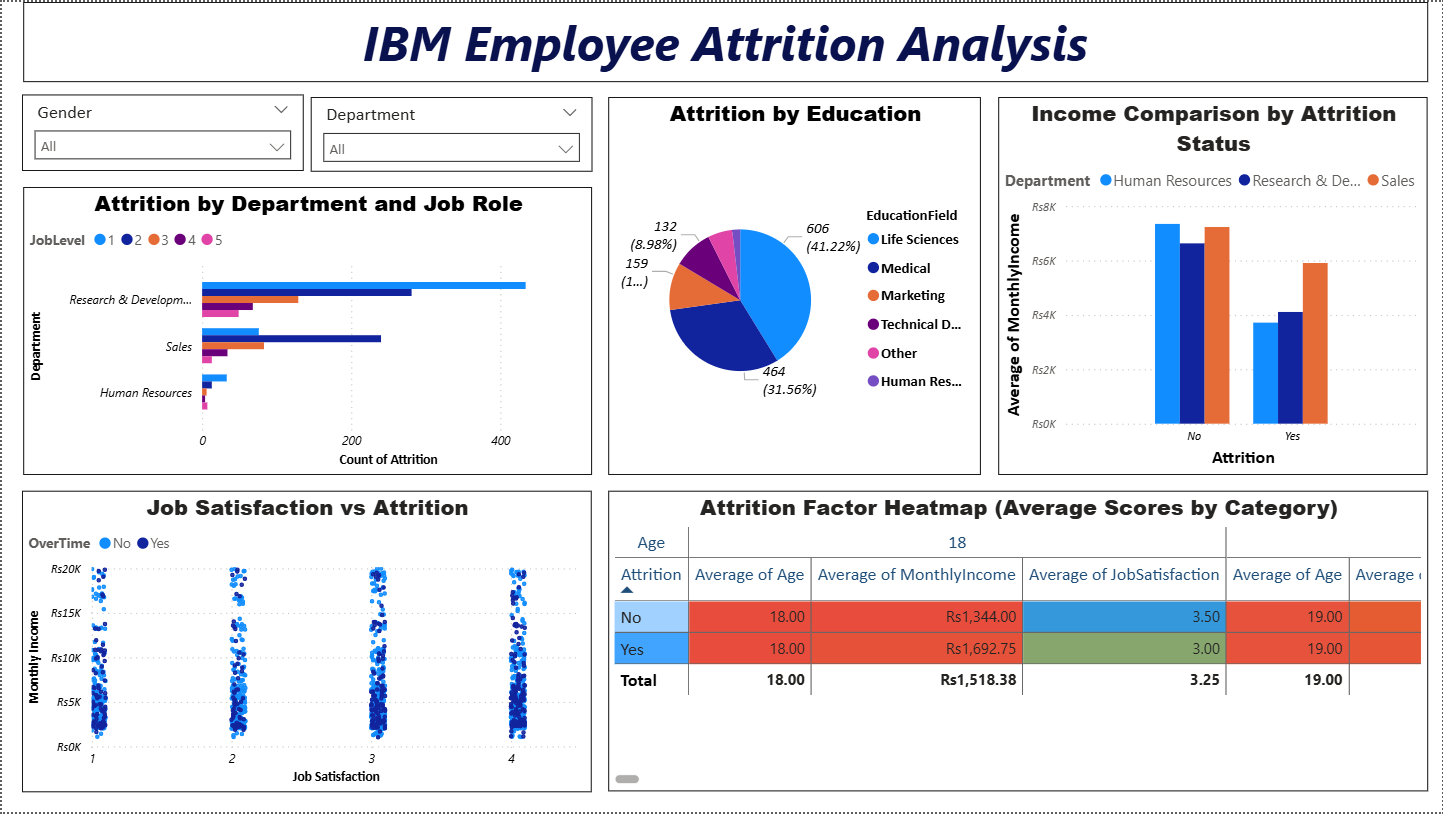

The dashboard page shown, as its layout file describes it:
{"tool":"powerbi","page":{"name":"IBM HR Attrition Deep Dive","canvas":[1280,720],"ordinal":1},"visuals":[{"type":"textbox","box":[18.6,0,1248.6,71.4],"z":0},{"type":"clusteredBarChart","title":"Attrition by Department and Job Role","fields":{"Y":["CountNonNull(IBM_HR.Attrition)"],"Category":["IBM_HR.Department"],"Series":["IBM_HR.JobLevel"]},"box":[18.6,164.3,505.7,255.7],"z":1000},{"type":"pieChart","title":"Attrition by Education","fields":{"Category":["IBM_HR.EducationField"],"Y":["CountNonNull(IBM_HR.Attrition)"]},"box":[538.6,84.3,331.4,335.7],"z":2000},{"type":"scatterChart","title":"Job Satisfaction vs Attrition","fields":{"Series":["IBM_HR.OverTime"],"Y":["IBM_HR.MonthlyIncome"],"X":["IBM_HR.JobSat_Jitter"]},"box":[18,434,506,268],"z":3000},{"type":"clusteredColumnChart","title":"Income Comparison by Attrition Status","fields":{"Category":["IBM_HR.Attrition"],"Y":["Avg(IBM_HR.MonthlyIncome)"],"Series":["IBM_HR.Department"]},"box":[885.7,84.3,381.4,335.7],"z":4000},{"type":"pivotTable","title":"Attrition Factor Heatmap (Average Scores by Category)","fields":{"Rows":["IBM_HR.Attrition"],"Values":["Avg(IBM_HR.Age)","Avg(IBM_HR.MonthlyIncome)","Avg(IBM_HR.JobSatisfaction)"],"Columns":["IBM_HR.Age","IBM_HR.MonthlyIncome","IBM_HR.JobSatisfaction","IBM_HR.YearsAtCompany"]},"box":[538.6,434.3,728.6,267.1],"z":5000},{"type":"slicer","fields":{"Values":["IBM_HR.Gender"]},"box":[18,82,250,68],"z":6000},{"type":"slicer","fields":{"Values":["IBM_HR.Department"]},"box":[274,84,250,66],"z":7000}]}

Visuals, with their boxes in screenshot pixels (x1, y1, x2, y2), scaled from the page's 1280x720 canvas onto the 1443x815 screenshot:
textbox: rect(21, 0, 1429, 81)
"Attrition by Department and Job Role" clusteredBarChart: rect(21, 186, 591, 475)
"Attrition by Education" pieChart: rect(607, 95, 981, 475)
"Job Satisfaction vs Attrition" scatterChart: rect(20, 491, 591, 795)
"Income Comparison by Attrition Status" clusteredColumnChart: rect(998, 95, 1428, 475)
"Attrition Factor Heatmap (Average Scores by Category)" pivotTable: rect(607, 492, 1429, 794)
slicer - IBM_HR.Gender: rect(20, 93, 302, 170)
slicer - IBM_HR.Department: rect(309, 95, 591, 170)
